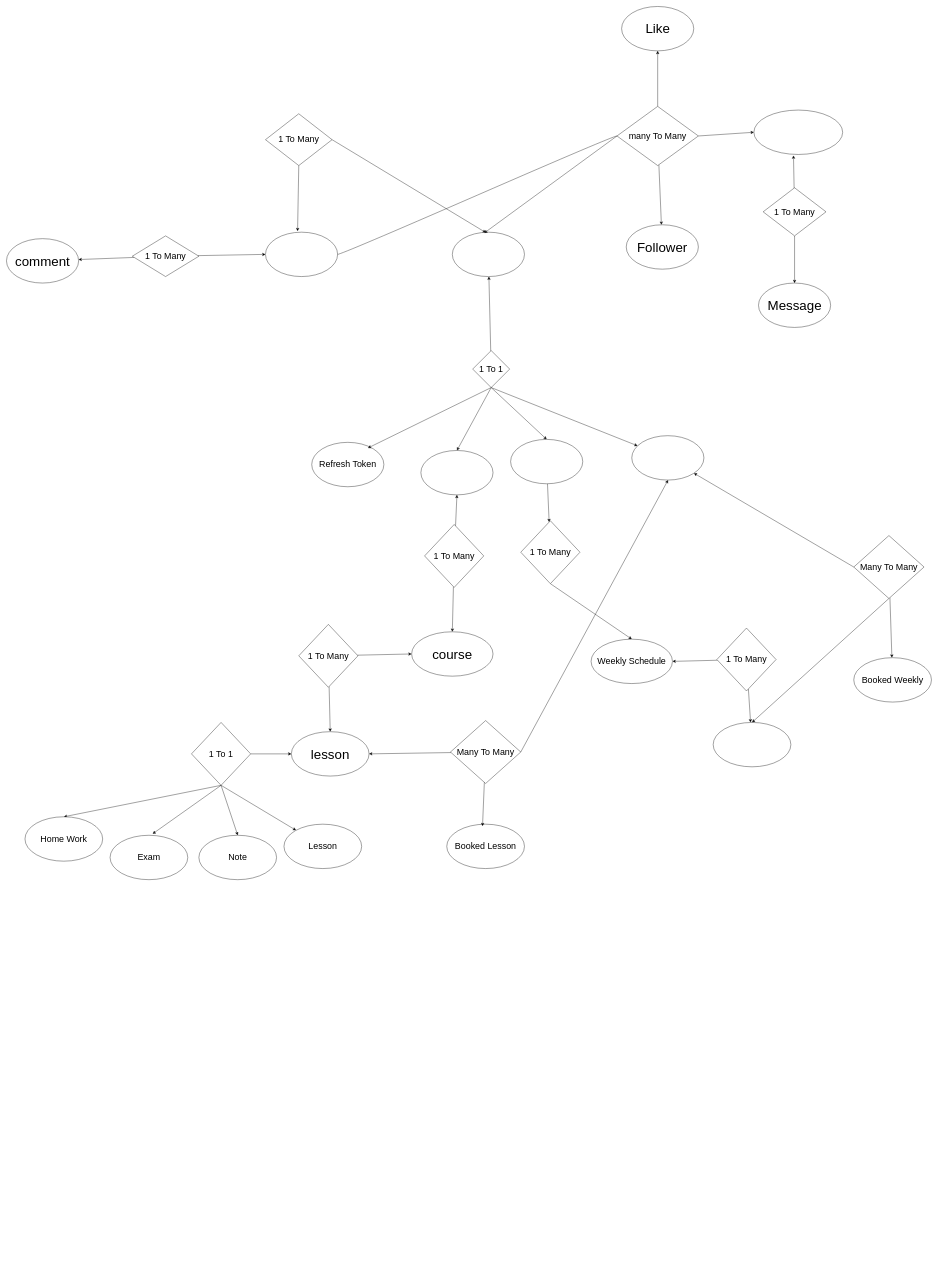
Some shapes in this 949 by 1267 pixel diagram are drawn without their labels. Here are the shapes that lost their labels. From the top down, the centre of each, then its label:
At pixel 798 132: "User Conversations".
At pixel 301 254: "Post".
At pixel 488 254: "User".
At pixel 457 472: "teacher".
At pixel 546 461: "cenetr".
At pixel 667 457: "student".
At pixel 752 744: "Weekly Teacher Day".
